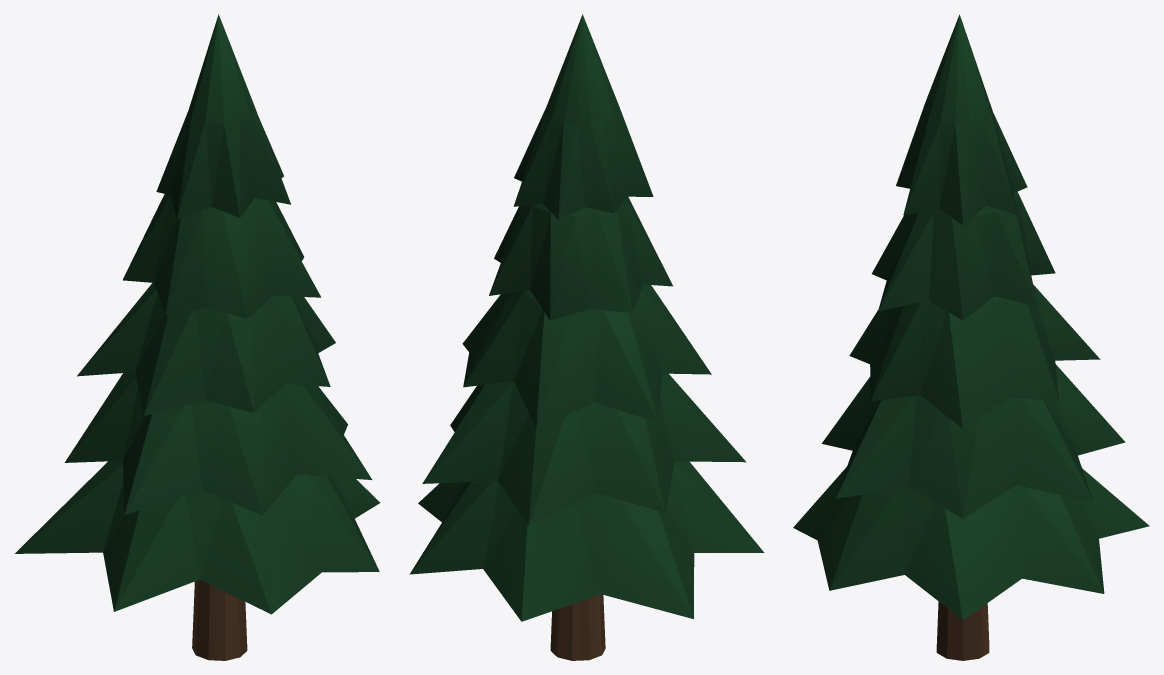
Rendered from tree_pine_a.glb.
3 renders of one model, left to right at view 1: azimuth 30°, elevation 25°; view 2: azimuth 150°, elevation 25°; view 3: azimuth 270°, elevation 25°, orthographic.
Visible parts, largest first — view 1: layer, layer.001, layer.002, layer.003, layer.004, trunk; view 2: layer, layer.001, layer.002, layer.003, layer.004, trunk; view 3: layer, layer.001, layer.002, layer.003, layer.004, trunk.
Boxes of the visible parts, x1,y1,x2,y2 form: layer: (15,460,380,614); layer.001: (64,372,372,515); layer.002: (77,283,335,415); layer.003: (123,194,321,318); layer.004: (156,14,290,218); trunk: (192,579,247,660); layer: (409,461,764,621); layer.001: (422,373,746,524); layer.002: (462,284,711,429); layer.003: (489,197,673,320); layer.004: (513,14,653,219); trunk: (550,594,605,660); layer: (793,467,1149,619); layer.001: (821,364,1125,518); layer.002: (849,285,1100,428); layer.003: (871,191,1055,320); layer.004: (896,14,1027,225); trunk: (936,601,989,660).
Bounding box in the file's own units: 2.14 × 4.05 × 2.06.
